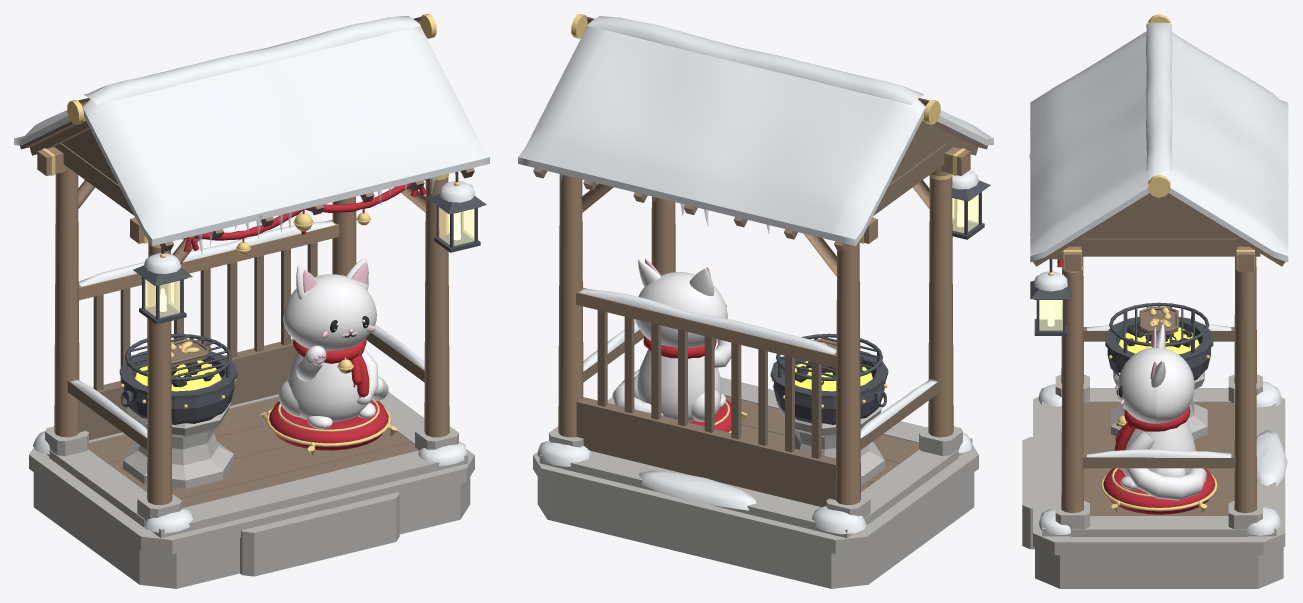
Rendered from wonder_cat_brazier.glb.
3 views of the same model, side by side, from view 1: azimuth 30°, elevation 25°; view 2: azimuth 150°, elevation 25°; view 3: azimuth 270°, elevation 25° (orthographic). The views are drawn at different scales.
Visible parts, largest first — view 1: cat_brazier_base, snow_cat; view 2: cat_brazier_base, snow_cat; view 3: cat_brazier_base, snow_cat.
Part boxes in pixels (left/top/right/bottom): cat_brazier_base: left=14, top=14, right=489, bottom=588; snow_cat: left=278, top=257, right=388, bottom=428; cat_brazier_base: left=518, top=14, right=993, bottom=588; snow_cat: left=612, top=259, right=731, bottom=422; cat_brazier_base: left=1022, top=14, right=1288, bottom=588; snow_cat: left=1114, top=324, right=1206, bottom=500.
Size of the model in its own units: 2.14 by 2.6 by 1.48.
